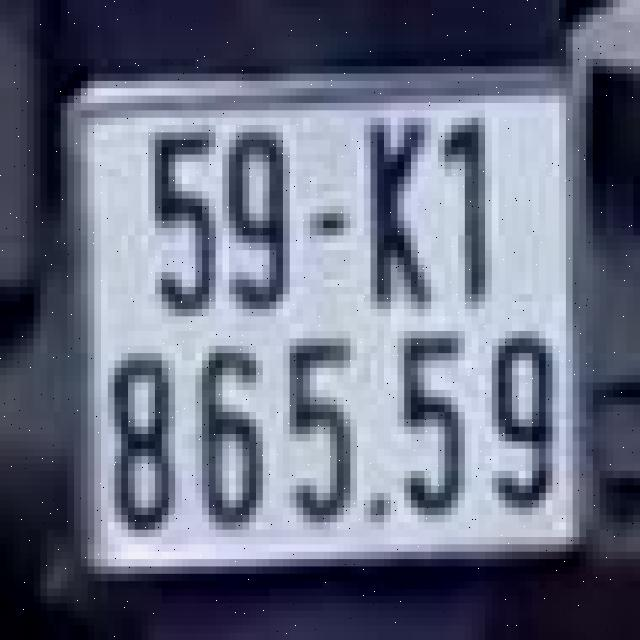1: (438, 99, 505, 320)
5: (266, 320, 367, 533), (377, 316, 472, 530), (142, 118, 222, 324)
6: (189, 342, 283, 533)
8: (94, 335, 182, 555)
9: (472, 313, 559, 526), (222, 118, 290, 309)
K: (350, 100, 431, 328)
